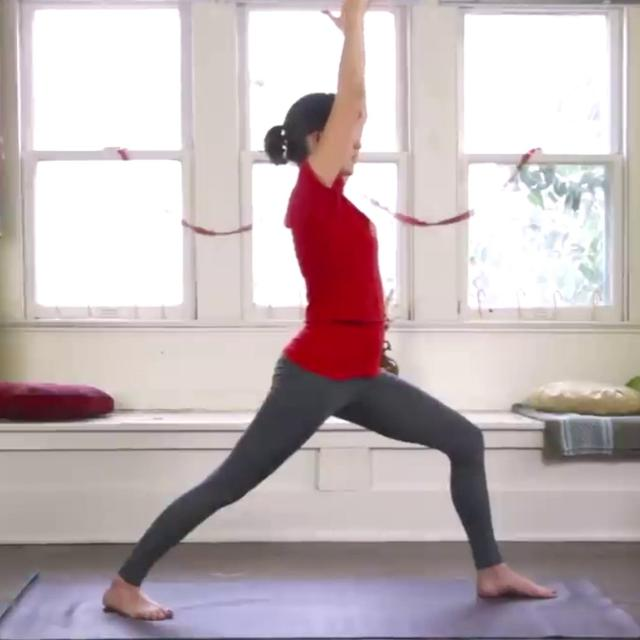Warrior_I: (93, 6, 569, 625)
